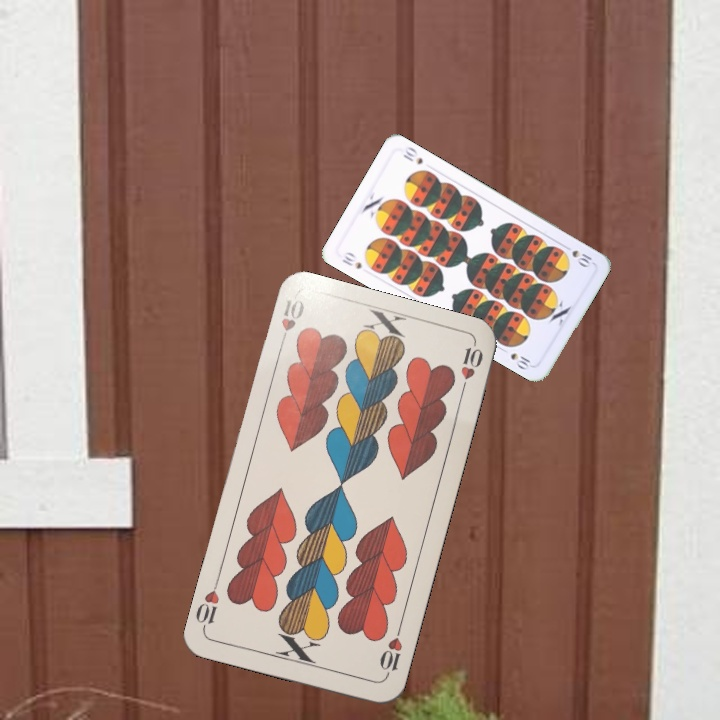H10: (375, 622, 406, 680), (275, 295, 307, 351)
S10: (559, 241, 596, 270), (337, 248, 364, 272)
